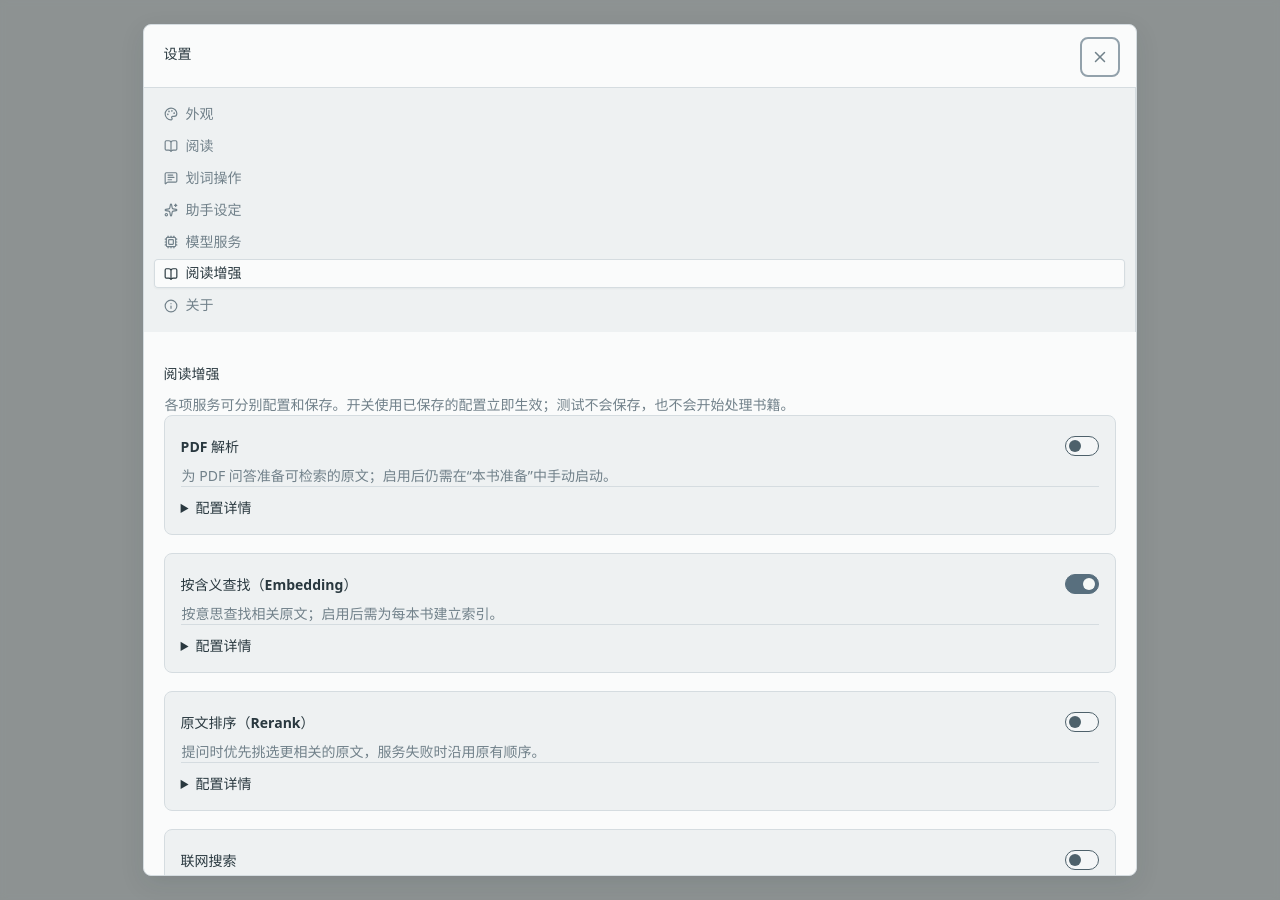
keeps the saved enabled state and editable draft when a switch change fails
The image size is (1280, 900).
Replace the text in the field with test id "embedding-model" with "unsaved-embedding": point(640, 640) [181, 624, 1099, 656]
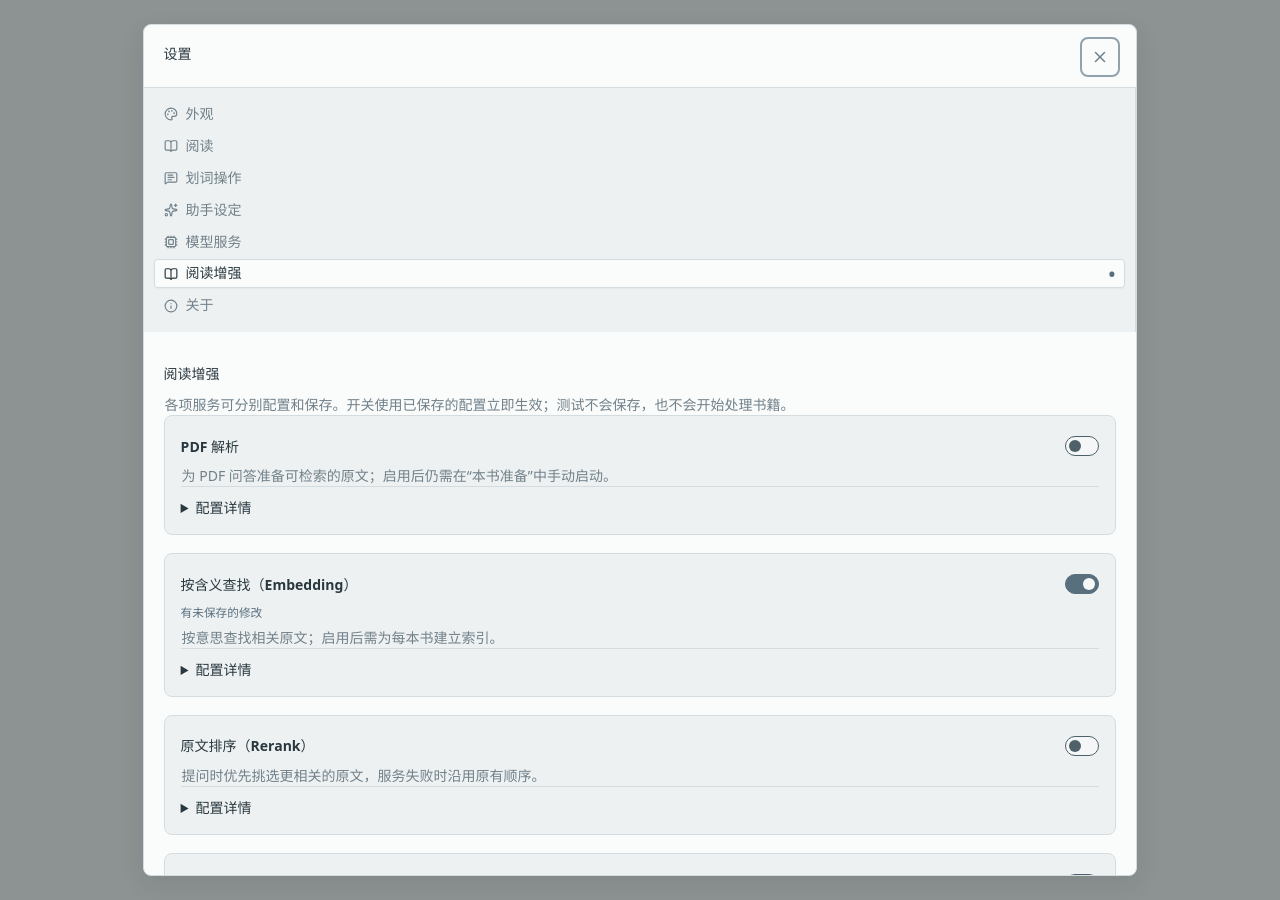
Click the switch labelled "按含义查找（Embedding）": point(1082, 584) [1065, 574, 1099, 594]
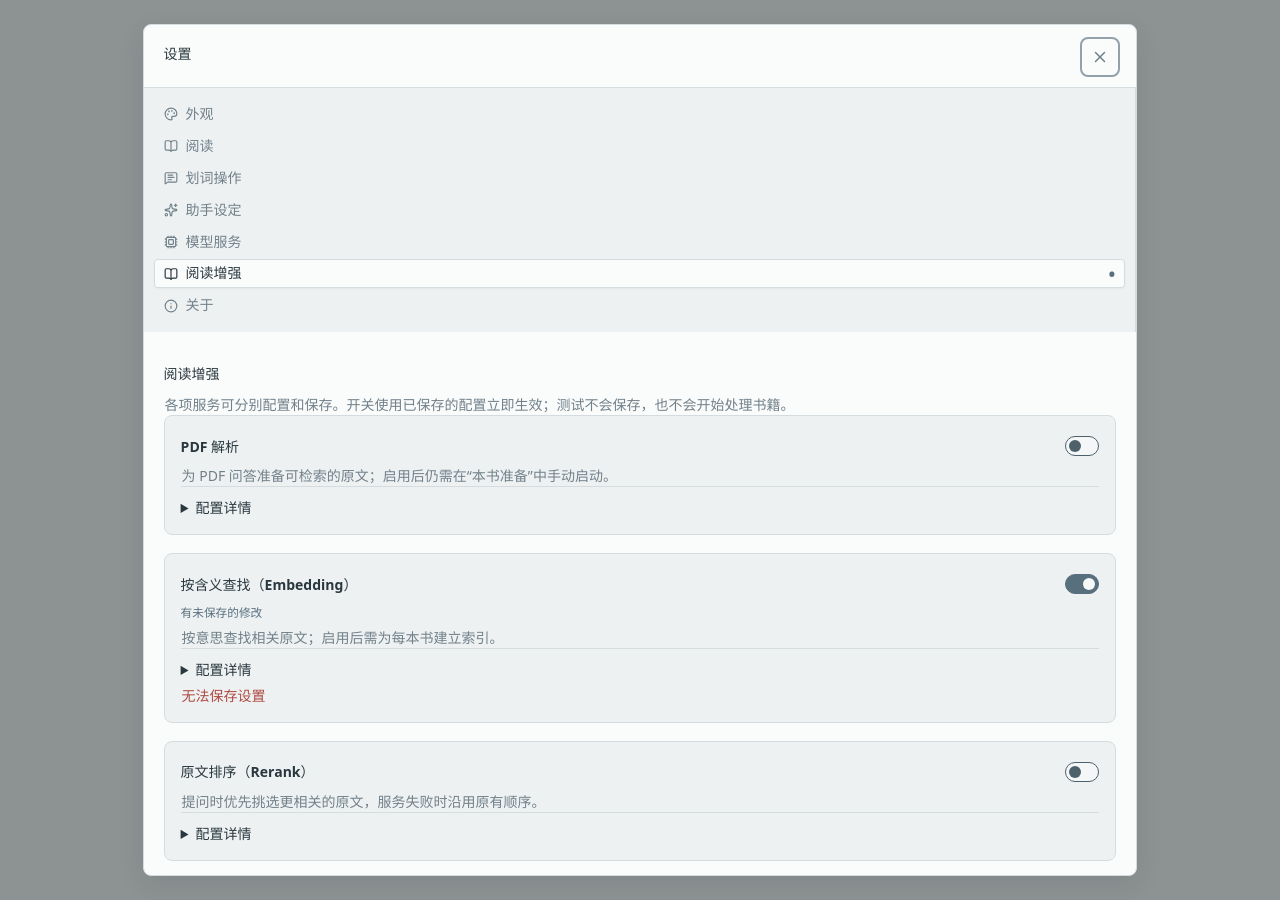
Check: the element with test id "embedding-model" holds "unsaved-embedding", box [181, 648, 1099, 680]
Check: the message with test id "knowledge-embedding-status" reads "无法保存设置", box [182, 686, 266, 705]
